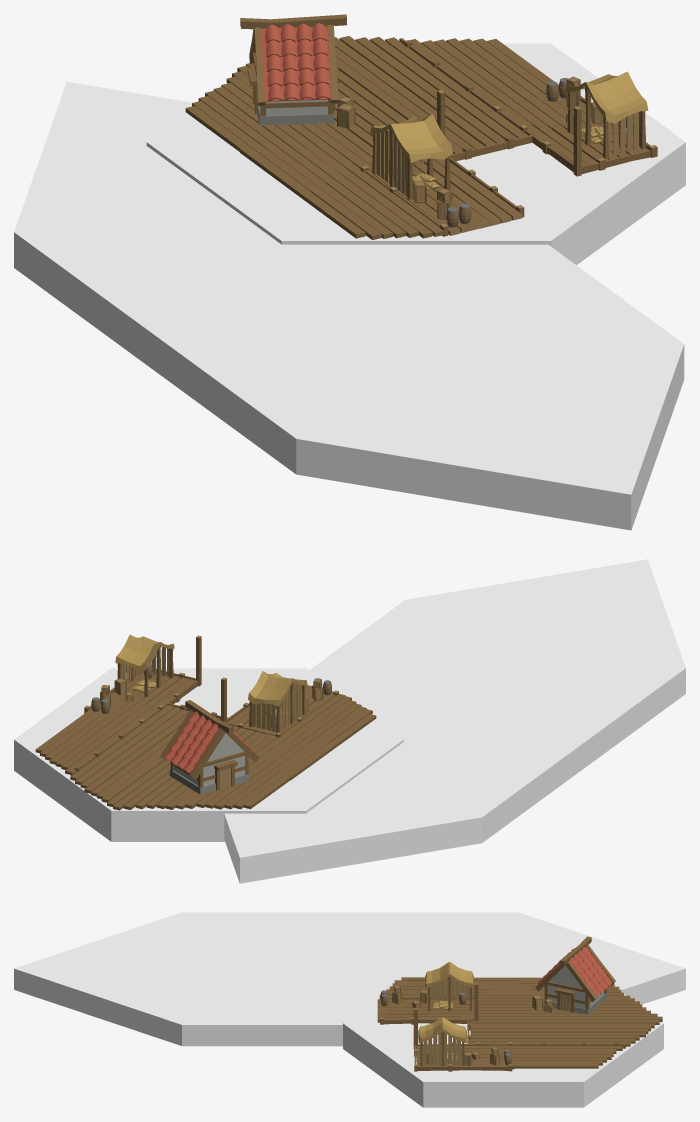
File: tilePortv2.glb
The picture shows the model from 3 angles, top to bottom: view 1: azimuth 30°, elevation 25°; view 2: azimuth 150°, elevation 25°; view 3: azimuth 270°, elevation 25°; orthographic projection. The views are drawn at different scales.
Parts seen in each view (by area): view 1: Cylinder.002, Cylinder, Port_FirstAge_Level1, Houses_SecondAge_1_Level1.001, Port_FirstAge_Level1.001, Cube.009, Cube.007, Cube.008, Cube.014, Cube.031, Cube.010, Cube.038 (+21 smaller); view 2: Cylinder.002, Cylinder, Houses_SecondAge_1_Level1.001, Port_FirstAge_Level1.001, Port_FirstAge_Level1, Cube.007, Cube.008, Cube.031, Cube.021, Cube.018, Cube.034, Cube.014 (+16 smaller); view 3: Cylinder.002, Cylinder, Port_FirstAge_Level1, Houses_SecondAge_1_Level1.001, Port_FirstAge_Level1.001, Cube.024, Cube.008, Cube.013, Cube.016, Cube.009, Cube.010, Cube.001 (+17 smaller).
Boxes of the visible parts, left/top/right/bottom form: Cylinder.002: left=14, top=81, right=684, bottom=530; Cylinder: left=146, top=43, right=685, bottom=265; Port_FirstAge_Level1: left=360, top=90, right=524, bottom=236; Houses_SecondAge_1_Level1.001: left=240, top=14, right=355, bottom=129; Port_FirstAge_Level1.001: left=493, top=71, right=657, bottom=176; Cube.009: left=349, top=43, right=495, bottom=145; Cube.007: left=375, top=41, right=517, bottom=139; Cube.008: left=359, top=40, right=505, bottom=143; Cube.014: left=390, top=41, right=527, bottom=137; Cube.031: left=185, top=106, right=310, bottom=193; Cube.010: left=338, top=45, right=484, bottom=148; Cube.038: left=318, top=145, right=444, bottom=236; Cylinder.002: left=224, top=559, right=685, bottom=883; Cylinder: left=14, top=668, right=403, bottom=841; Houses_SecondAge_1_Level1.001: left=159, top=700, right=259, bottom=794; Port_FirstAge_Level1.001: left=84, top=634, right=201, bottom=723; Port_FirstAge_Level1: left=221, top=671, right=338, bottom=737; Cube.007: left=79, top=707, right=181, bottom=780; Cube.008: left=84, top=709, right=189, bottom=784; Cube.031: left=243, top=743, right=335, bottom=809; Cube.021: left=49, top=698, right=140, bottom=764; Cube.018: left=61, top=704, right=152, bottom=769; Cube.034: left=214, top=743, right=306, bottom=809; Cube.014: left=75, top=705, right=174, bottom=776; Cylinder.002: left=14, top=912, right=685, bottom=1046; Cylinder: left=343, top=964, right=663, bottom=1107; Port_FirstAge_Level1: left=377, top=962, right=478, bottom=1024; Houses_SecondAge_1_Level1.001: left=532, top=936, right=615, bottom=1014; Port_FirstAge_Level1.001: left=413, top=1008, right=514, bottom=1071; Cube.024: left=459, top=1063, right=598, bottom=1068; Cube.008: left=471, top=1035, right=634, bottom=1038; Cube.013: left=470, top=1020, right=634, bottom=1023; Cube.016: left=470, top=1013, right=634, bottom=1016; Cube.009: left=470, top=1032, right=634, bottom=1035; Cube.010: left=470, top=1029, right=634, bottom=1032; Cube.001: left=478, top=1016, right=634, bottom=1019.
Bounding box in the file's own units: 7.93 × 1.79 × 13.1.
